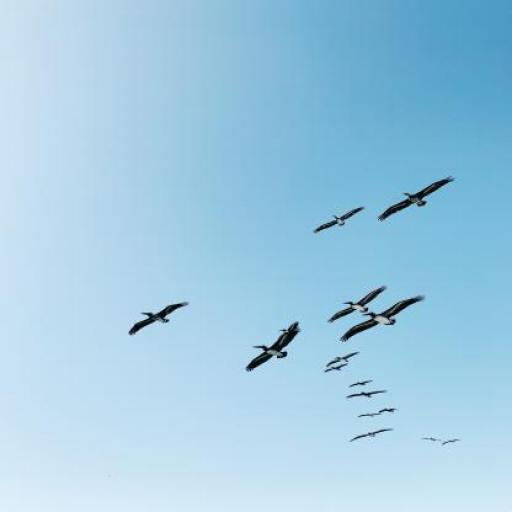bird: (340, 296, 426, 344), (376, 176, 456, 222), (246, 326, 302, 372), (327, 286, 388, 324), (128, 302, 190, 336), (312, 207, 366, 234), (350, 428, 395, 443), (325, 352, 361, 368), (278, 321, 300, 341), (346, 390, 389, 399), (324, 363, 350, 373), (348, 380, 374, 389), (378, 408, 400, 414), (442, 440, 463, 446), (422, 438, 446, 443), (357, 414, 381, 417)
